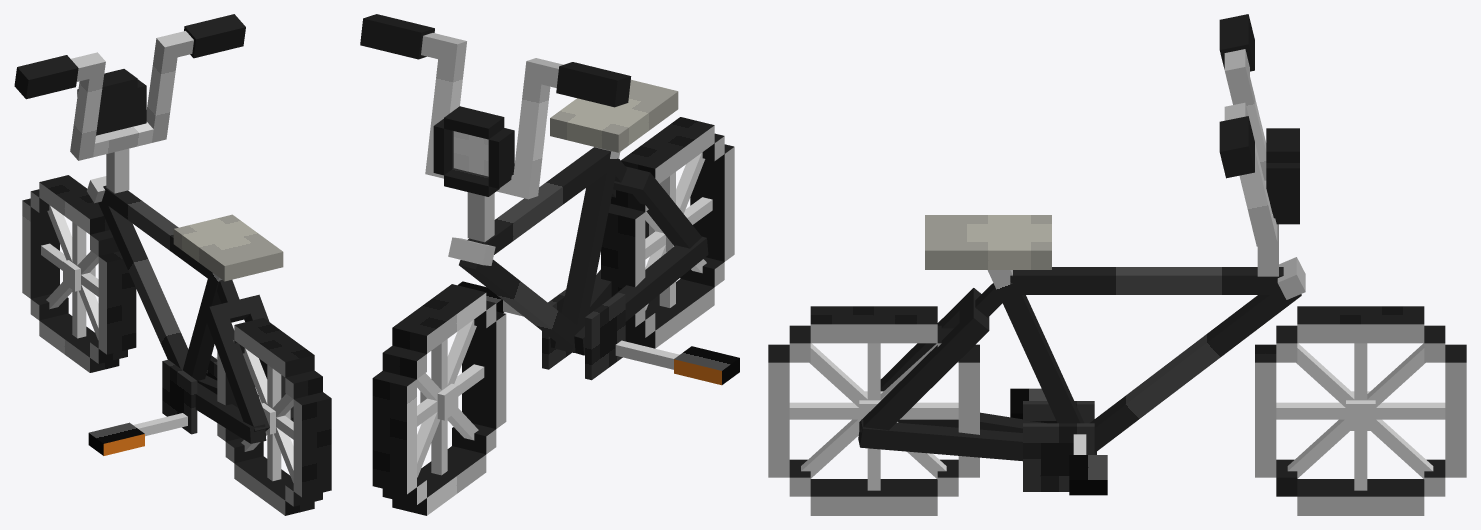
The picture shows the model from 3 angles, left to right: view 1: azimuth 30°, elevation 25°; view 2: azimuth 150°, elevation 25°; view 3: azimuth 270°, elevation 25°; orthographic projection. The views are drawn at different scales.
Parts seen in each view (by area): view 1: cube_65, cube_63, cube_38, cube_4, cube_68, cube_7, cube_35, cube_1, cube_62, cube_27, cube_34, cube_0 (+37 smaller); view 2: cube_65, cube_7, cube_64, cube_62, cube_4, cube_1, cube_41, cube_38, cube_35, cube_63, cube_31, cube_70 (+36 smaller); view 3: cube_62, cube_65, cube_63, cube_1, cube_35, cube_0, cube_34, cube_71, cube_69, cube_64, cube_55, cube_7 (+32 smaller).
Boxes of the visible parts, x1,y1,x2,y2 form: cube_65: (173, 214, 283, 281); cube_63: (98, 195, 188, 369); cube_38: (293, 392, 331, 497); cube_4: (98, 251, 136, 354); cube_68: (203, 305, 269, 431); cube_7: (22, 198, 59, 298); cube_35: (234, 318, 314, 377); cube_1: (39, 175, 109, 234); cube_62: (102, 185, 212, 281); cube_27: (14, 55, 78, 99); cube_34: (234, 456, 314, 515); cube_0: (39, 313, 119, 372); cube_65: (550, 79, 678, 152); cube_7: (372, 371, 416, 494); cube_64: (554, 147, 620, 352); cube_62: (467, 147, 611, 254); cube_4: (462, 311, 506, 428); cube_1: (392, 284, 486, 353); cube_41: (601, 204, 645, 327); cube_38: (690, 144, 734, 261); cube_35: (621, 117, 714, 183); cube_63: (459, 259, 580, 346); cube_31: (511, 80, 550, 199); cube_70: (574, 236, 708, 355); cube_62: (1010, 267, 1283, 294); cube_65: (925, 215, 1051, 269); cube_63: (1090, 289, 1301, 452); cube_1: (1297, 306, 1424, 343); cube_35: (810, 306, 937, 343); cube_0: (1297, 479, 1424, 515); cube_34: (810, 479, 937, 515); cube_71: (858, 419, 1022, 461); cube_69: (859, 309, 989, 432); cube_64: (987, 270, 1096, 454); cube_55: (1023, 423, 1094, 491); cube_7: (1445, 344, 1466, 477).
Size of the model in its own units: 0.9625 by 1.39 by 2.06.
Materials: 1 (1 with a texture image).
